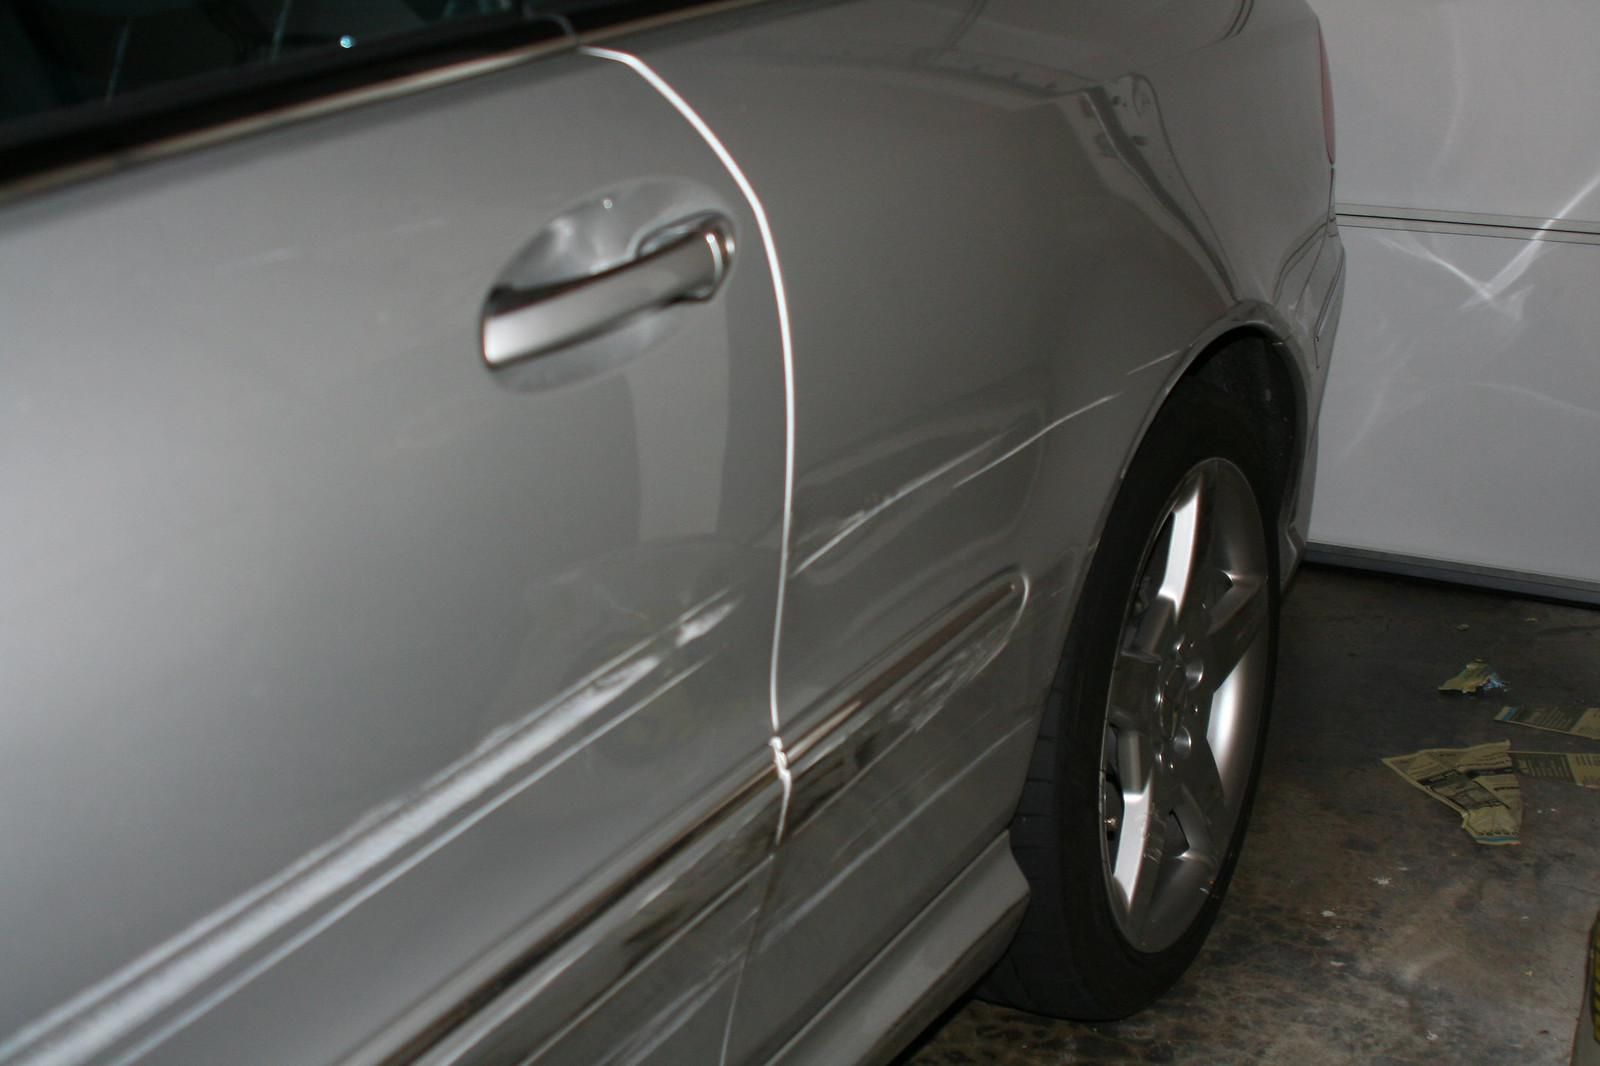doorouter-dent: (165, 157, 821, 1060)
